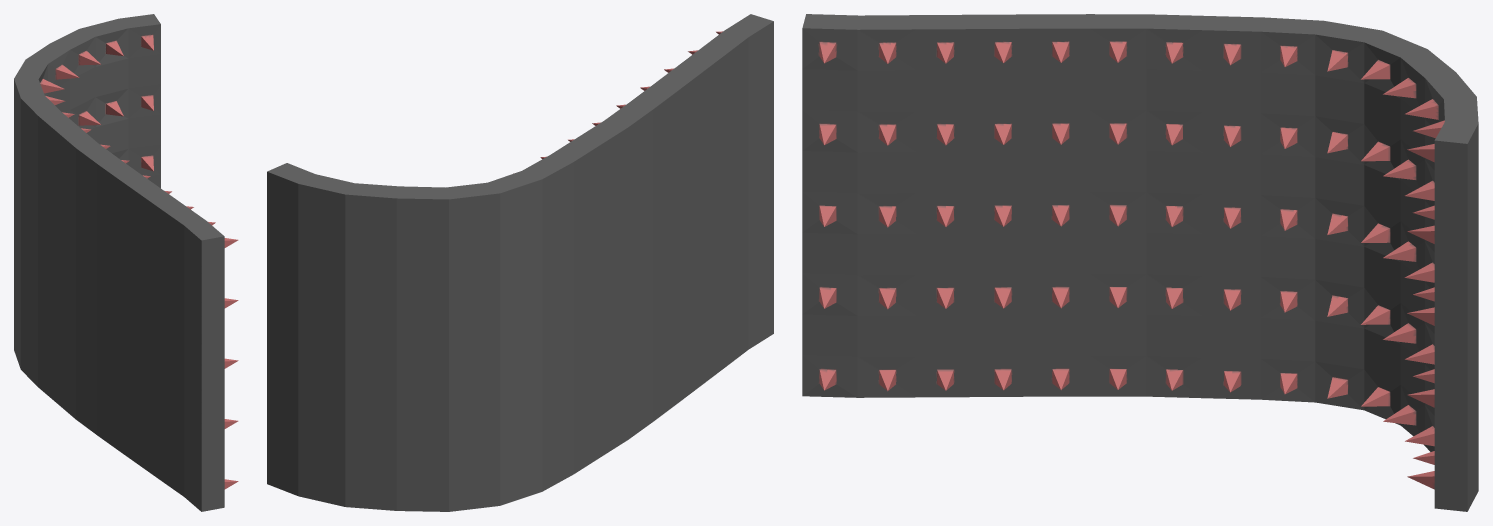
File: spikes.glb
3 renders of one model, left to right at view 1: azimuth 30°, elevation 25°; view 2: azimuth 150°, elevation 25°; view 3: azimuth 270°, elevation 25°, orthographic. The views are drawn at different scales.
Visible parts, largest first — view 1: segment.generated.002; view 2: segment.generated.002; view 3: segment.generated.002.
Part boxes in pixels (<box>): segment.generated.002: <box>14,14,238,511</box>; segment.generated.002: <box>267,14,773,511</box>; segment.generated.002: <box>802,14,1478,511</box>.
Size of the model in its own units: 4.57 by 6.04 by 10.06.
Materials: 1 (1 with a texture image).
